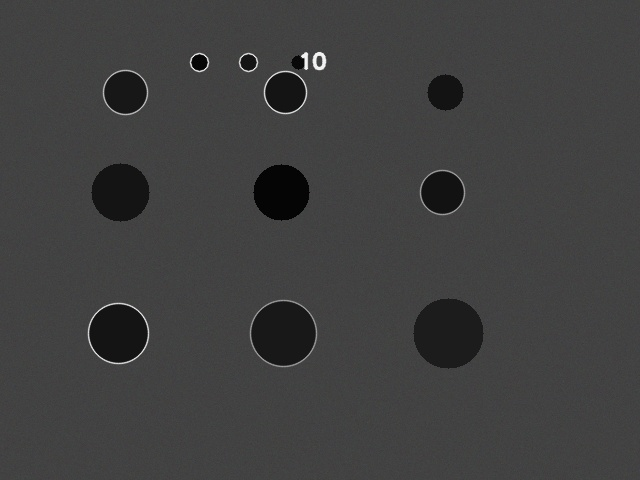hole: (413, 298, 483, 368), (250, 300, 316, 366), (88, 303, 148, 363), (91, 163, 149, 221), (253, 164, 309, 220), (103, 70, 147, 114), (420, 170, 464, 214), (264, 71, 306, 113), (427, 74, 463, 110), (190, 53, 208, 71), (239, 53, 257, 71), (291, 55, 305, 69)
